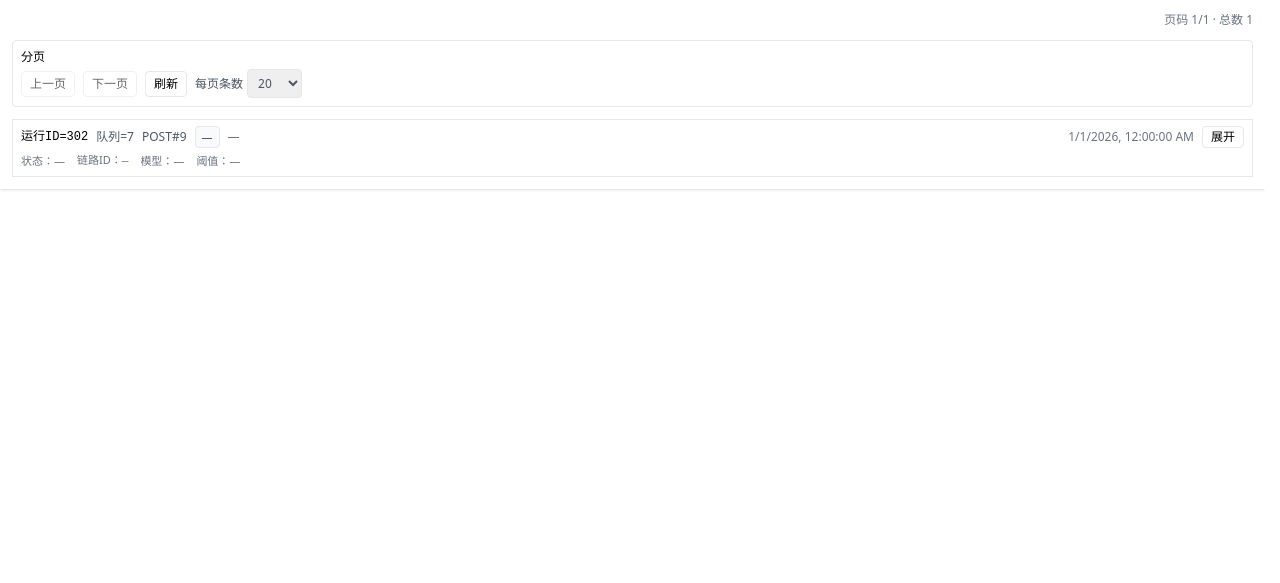
Test: ModerationPipelineHistoryPanel › 存在 TEXT/VISION/JUDGE 时默认隐藏 LLM 阶段
Check: the text "运行ID=302" is shown, box [21,129,88,145]
Check: the button "运行ID=302" is shown, box [12,119,1253,176]
Click the button "展开" at coordinates (1223, 137), box [1202,126,1244,148]
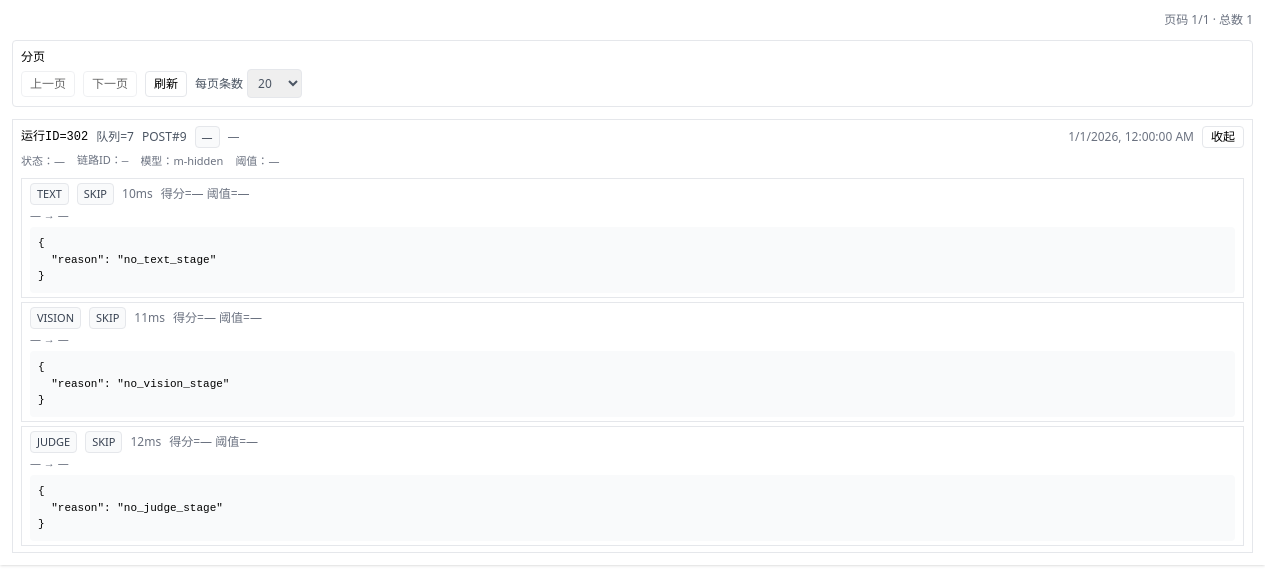
Check: the text "TEXT" is shown, box [30,182,69,204]
Check: the text "VISION" is shown, box [30,306,81,328]
Check: the text "JUDGE" is shown, box [30,430,77,452]
